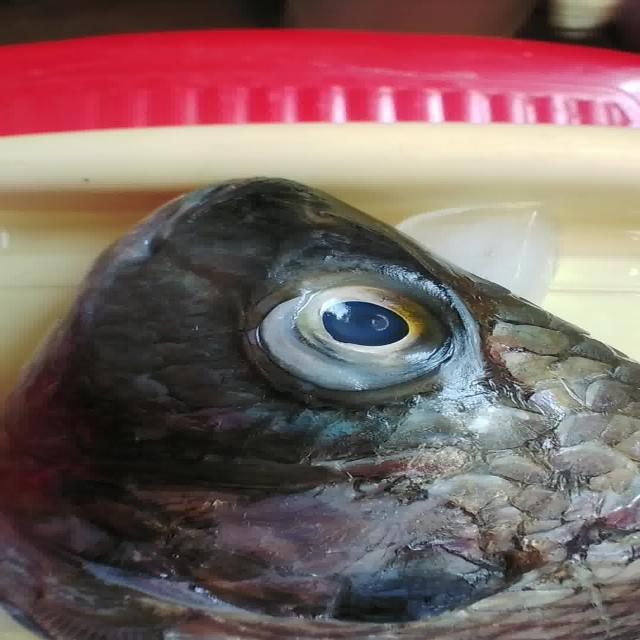Fresh: (243, 260, 478, 404)
